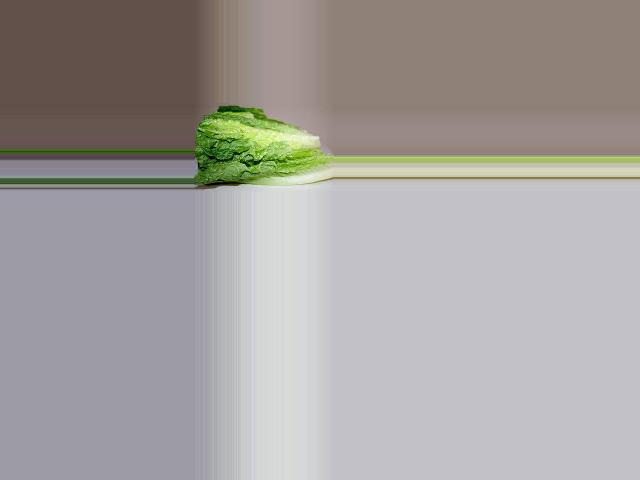lettuce: (193, 115, 326, 189)
